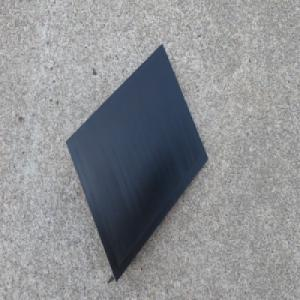PlasticPart: (64, 42, 209, 282)
